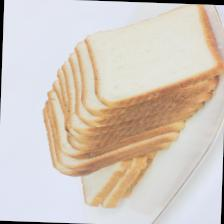bread: (81, 0, 224, 110)
